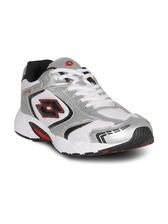shoes: (10, 58, 160, 158)
